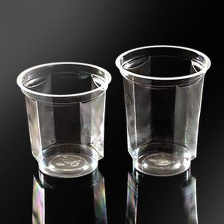glass: (113, 41, 214, 184), (12, 57, 116, 181)
